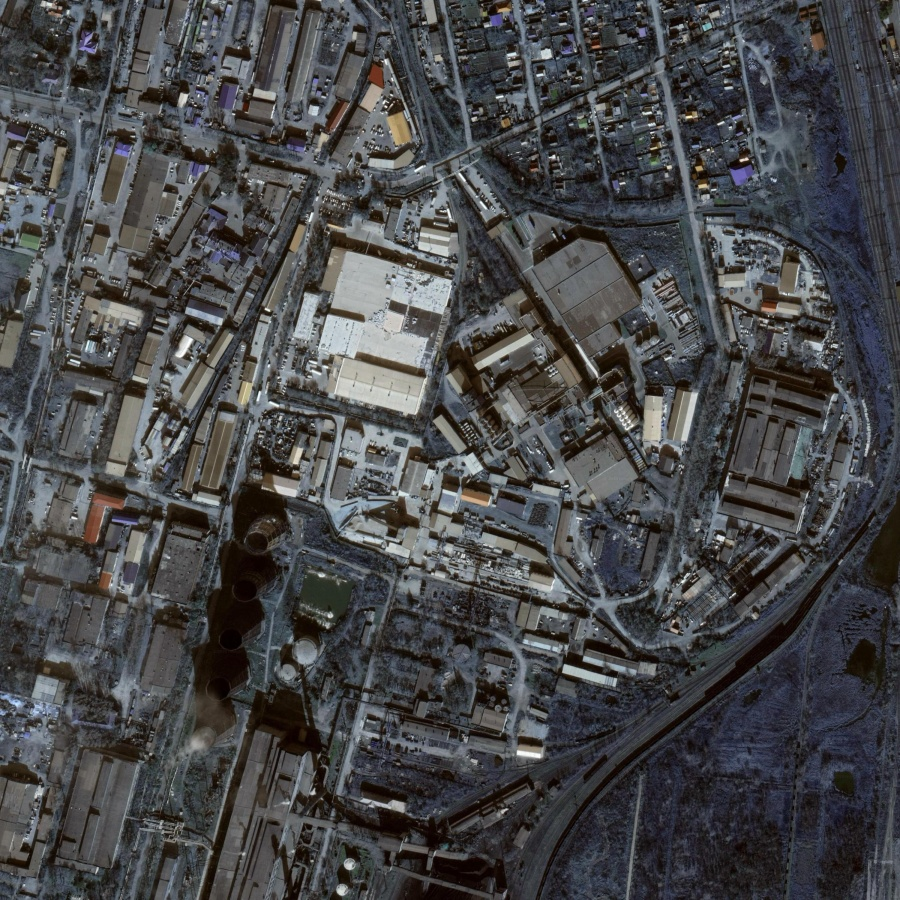PowerPlant: (160, 466, 330, 805)
